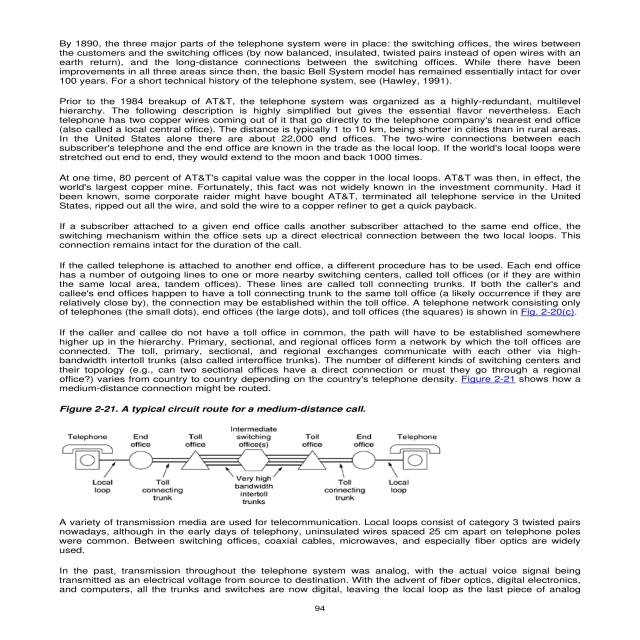diagram: (20, 401, 473, 508)
